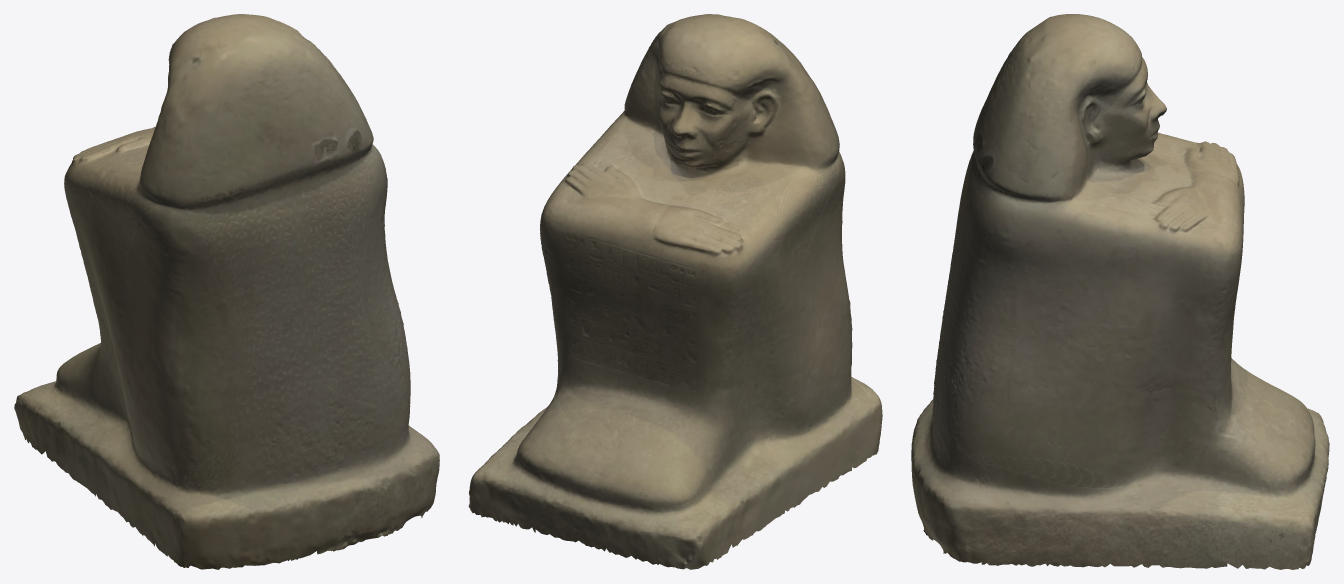
The model's file is preview.glb.
3 renders of one model, left to right at view 1: azimuth 30°, elevation 25°; view 2: azimuth 150°, elevation 25°; view 3: azimuth 270°, elevation 25°, orthographic. The views are drawn at different scales.
Visible parts, largest first — view 1: meshNode_meshNode_0; view 2: meshNode_meshNode_0; view 3: meshNode_meshNode_0.
Part boxes in pixels (x1,y1,x2,y2): meshNode_meshNode_0: (14, 14, 439, 569); meshNode_meshNode_0: (468, 14, 882, 569); meshNode_meshNode_0: (911, 14, 1329, 569).
Bounding box in the file's own units: 0.5213 × 0.882 × 0.7087.
1 material, 1 textured.
